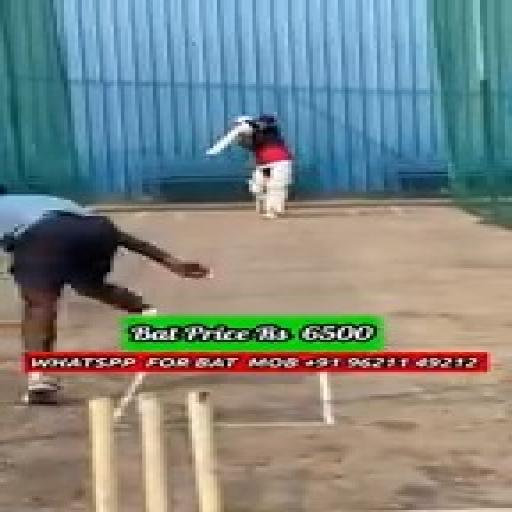Cricket bat: (206, 118, 249, 154)
